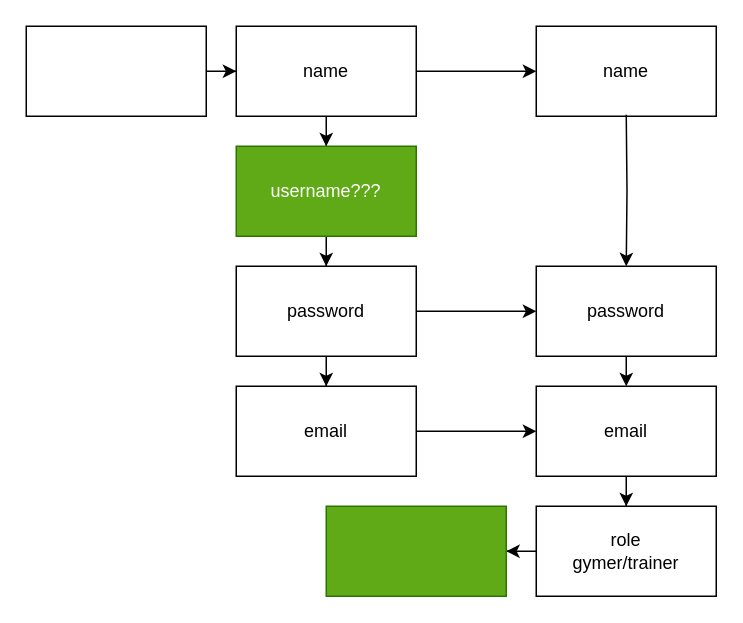
Some shapes in this 743 by 623 pixel diagram are drawn without their labels. The shapes that lost their labels are listed below. From the top down, each one's box as (x1, y1, x2, y2) in pixels, then its label:
(25, 25, 206, 116): erb
(325, 505, 506, 596): role admin, need to do it programmatically
